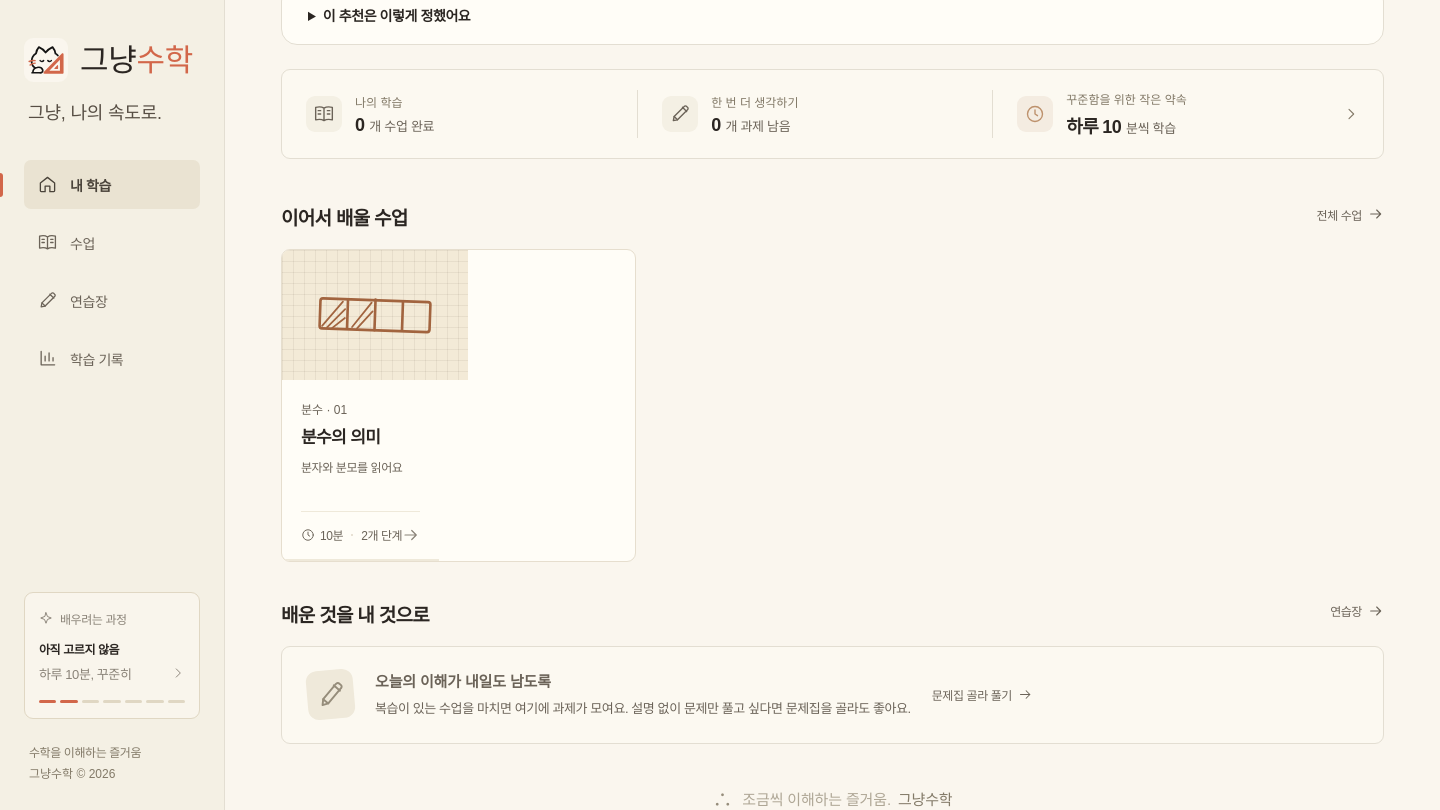
Scenario: a step this version cannot draw › stops the step from being finished at all
(page scrolled)
Click the button "분수 · 01 분수의 의미 분자와 분모를 읽어요 10분 2개 단계" at (375, 315), box [281,249,636,562]
Wait 1 ms
(page scrolled)
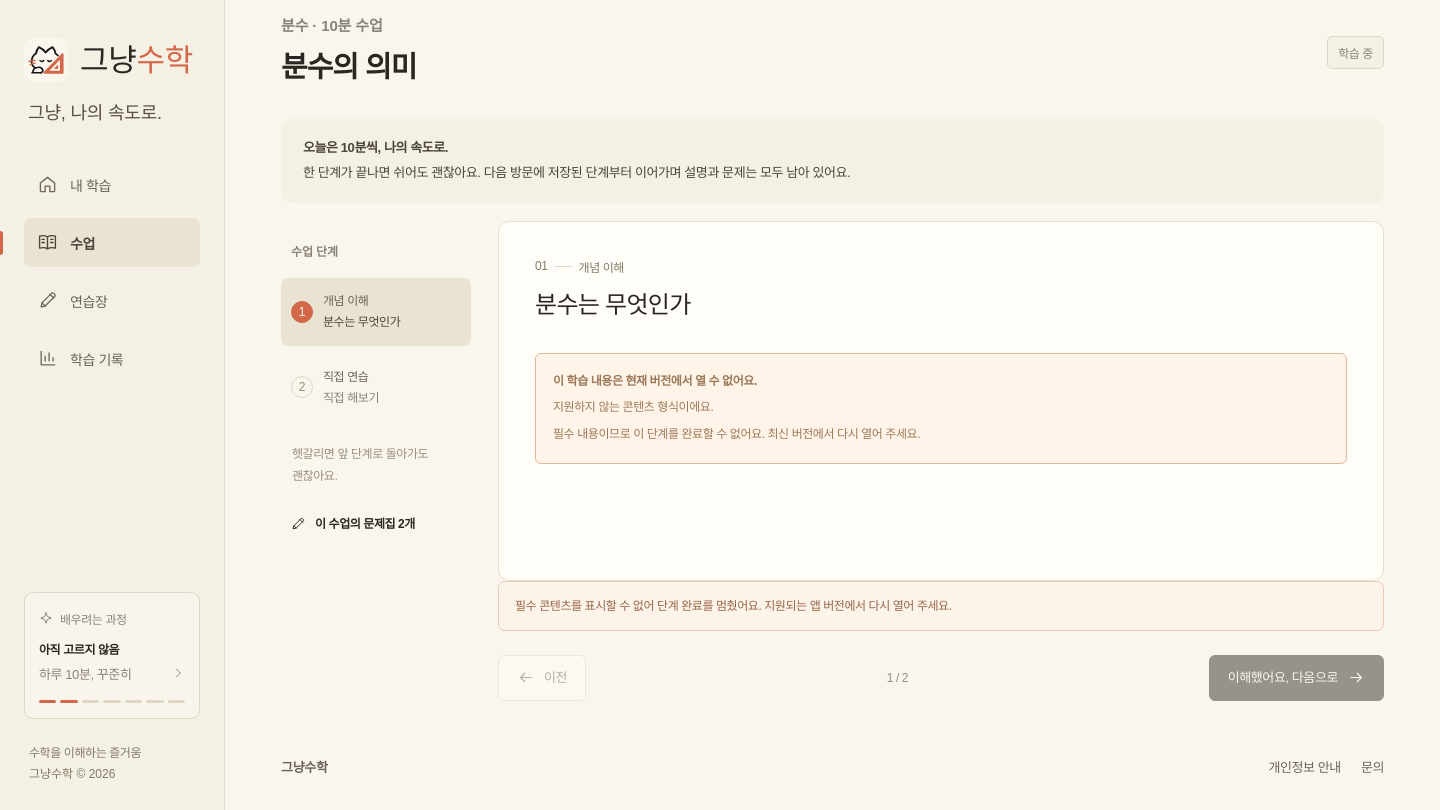
Check: the heading "분수의 의미" is shown, box [281,44,416,90]
Check: the text "필수 콘텐츠를 표시할 수 없어 단계 완료를 멈췄어요. 지원되는 앱 버전에서 다시 열어 주세요." is shown, box [498,581,1384,631]
Check: the button "이해했어요, 다음으로" is disabled, box [1209,655,1384,701]
